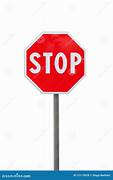stop: (23, 30, 84, 95)
